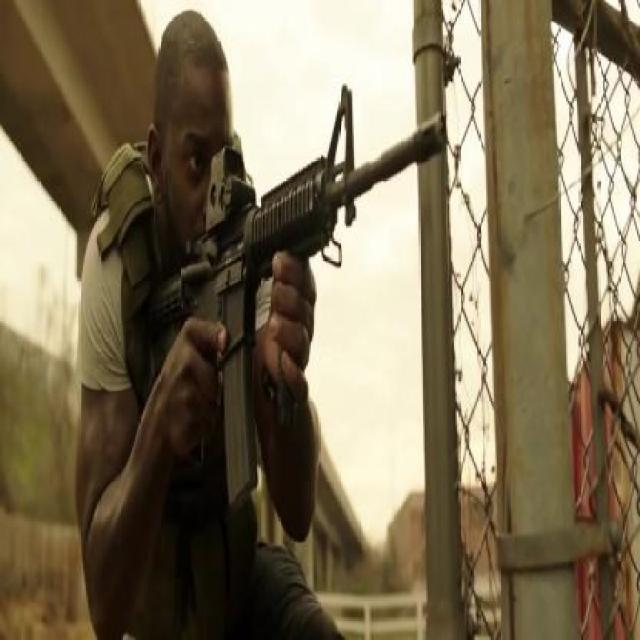Rifle: (123, 28, 472, 552)
